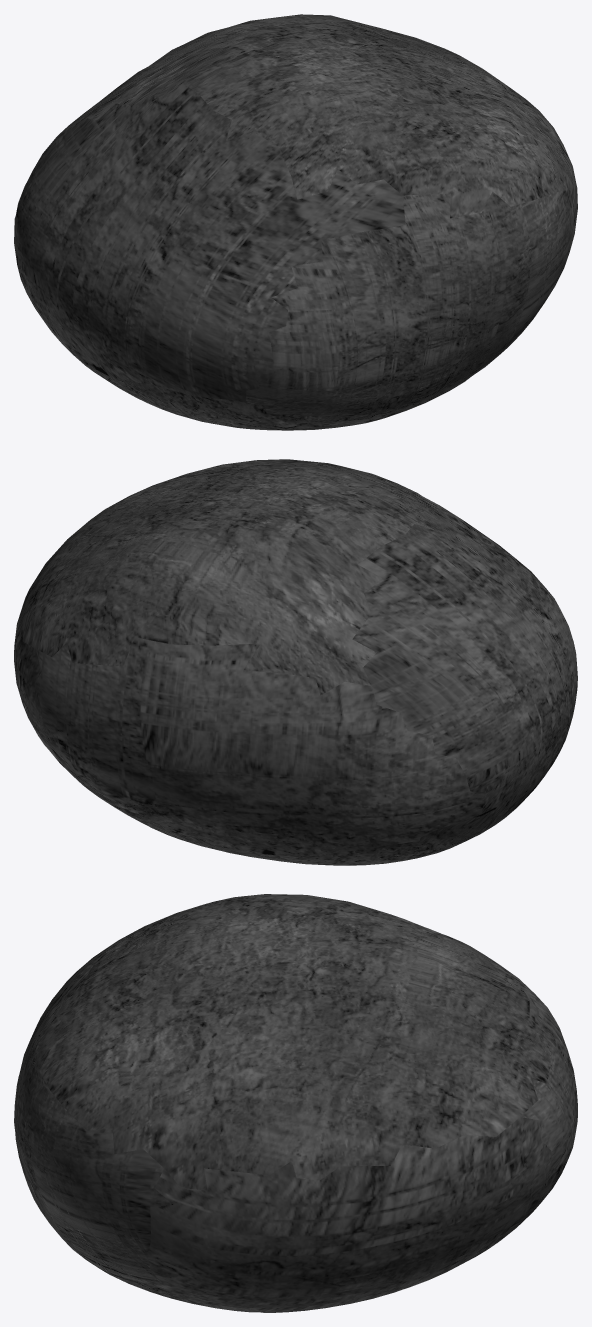
The model's file is Rock small 2.fbx.
3 views of the same model, one above another, from view 1: azimuth 30°, elevation 25°; view 2: azimuth 150°, elevation 25°; view 3: azimuth 270°, elevation 25° (orthographic). The views are drawn at different scales.
Parts seen in each view (by area): view 1: Rock small 2; view 2: Rock small 2; view 3: Rock small 2.
Part boxes in pixels (x1=…): Rock small 2: x1=14, y1=14, x2=577, y2=430; Rock small 2: x1=14, y1=459, x2=577, y2=865; Rock small 2: x1=14, y1=894, x2=577, y2=1312.
Size of the model in its own units: 0.3508 by 0.2161 by 0.3261.
